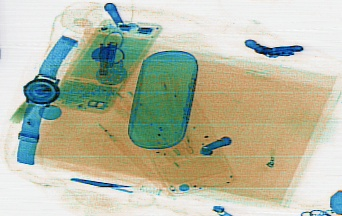scissors: (69, 175, 160, 208)
